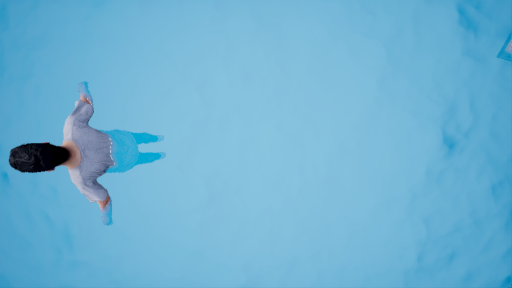person: (8, 79, 178, 221)
